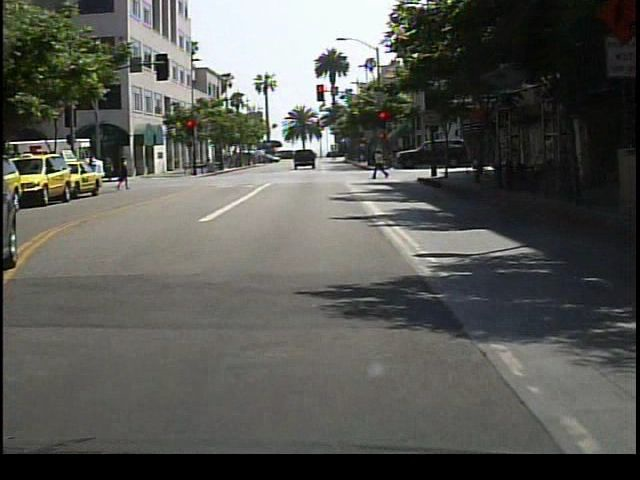person: (469, 138, 489, 182), (373, 147, 391, 180), (116, 157, 132, 192)
